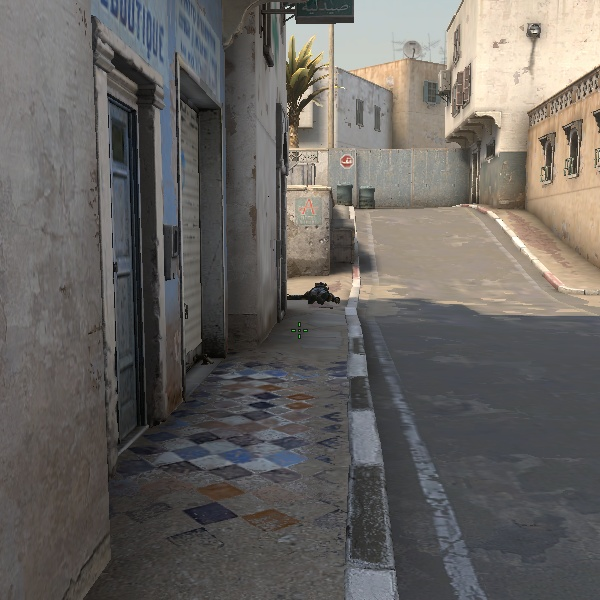ct_head: (300, 279, 337, 311)
